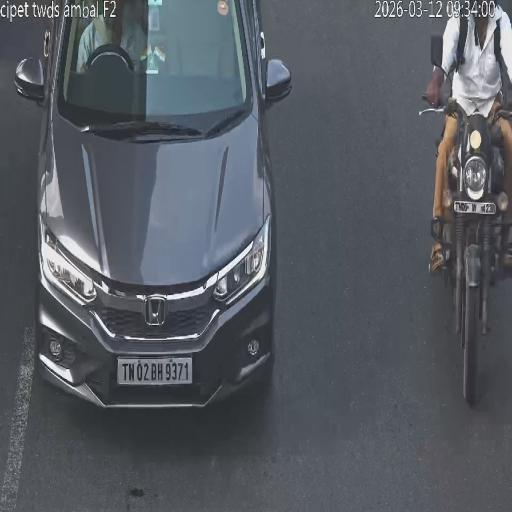person_with_seatbelt: (83, 0, 124, 68)
